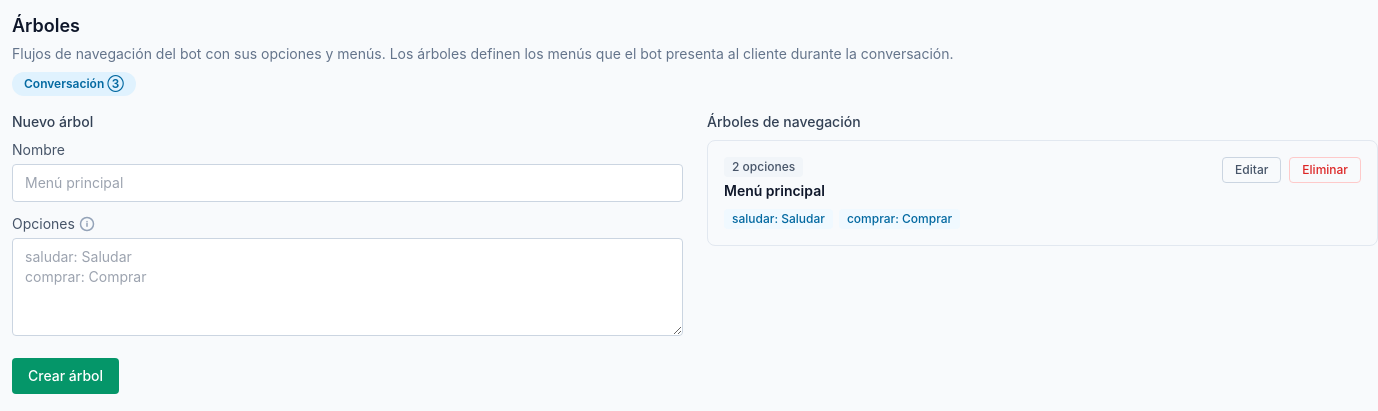
TreesSection › elimina un árbol y vuelve al estado vacío
Expected: the heading "Menú principal" is shown, [724, 182, 825, 199]
Step 1. Click the button "Eliminar" → (1325, 170), box [1289, 157, 1361, 183]
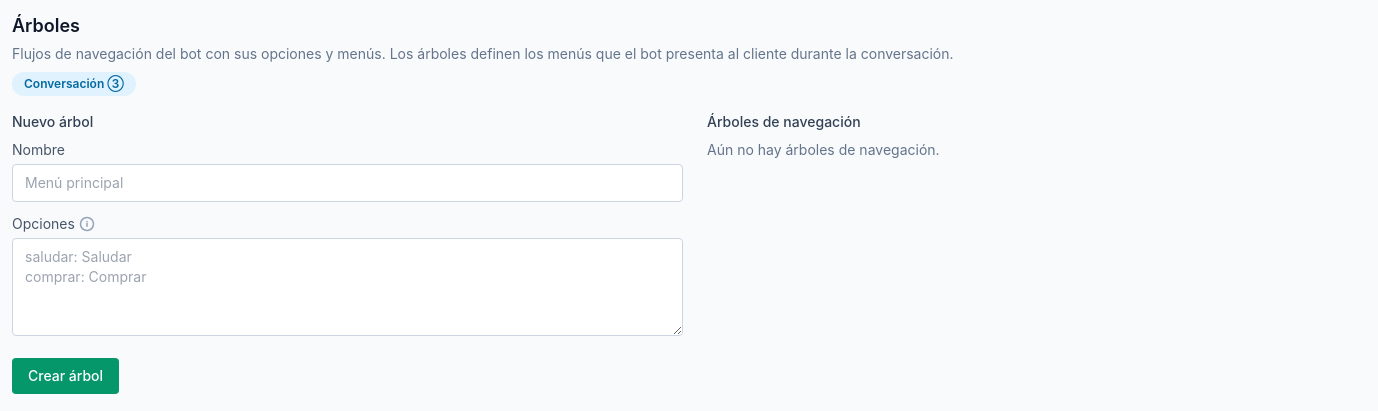
Expected: the text "Aún no hay árboles de navegación." is shown, [707, 141, 940, 158]
